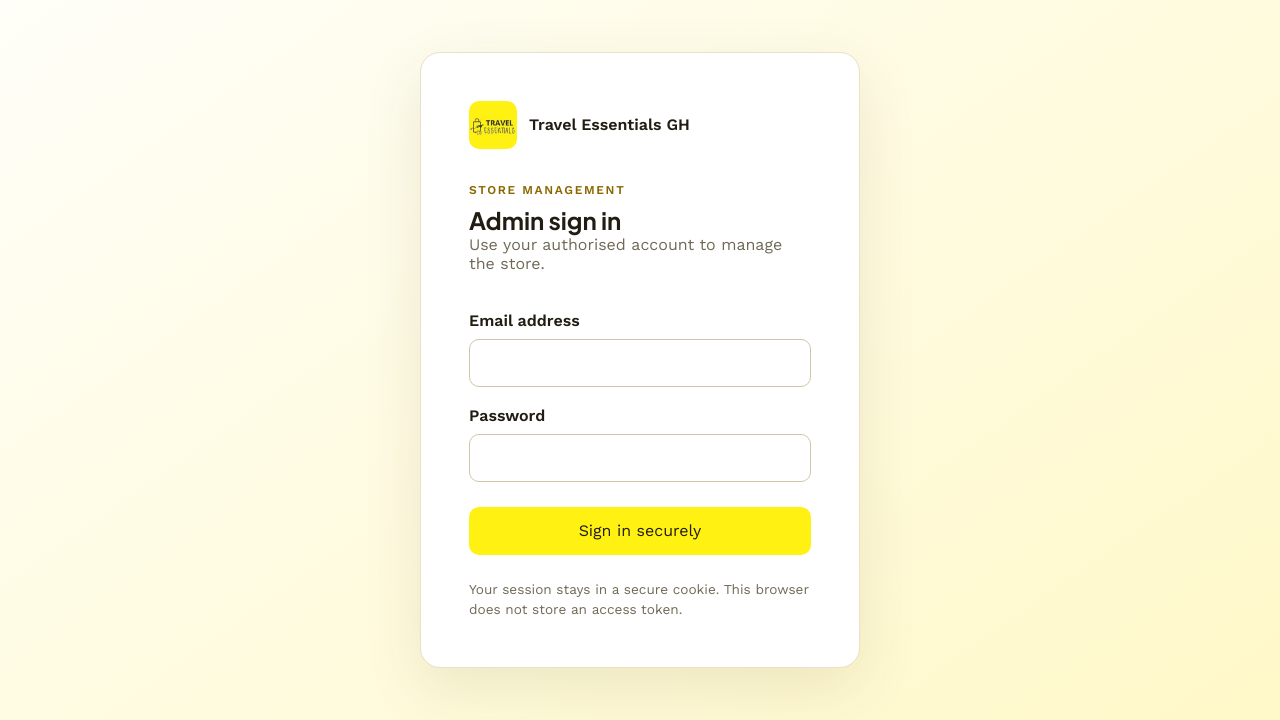
admin authentication and dashboard shell › validates input before sending credentials
Type "not-an-email" into the field labelled "Email address". click: (640,363)
box: [469,339,811,387]
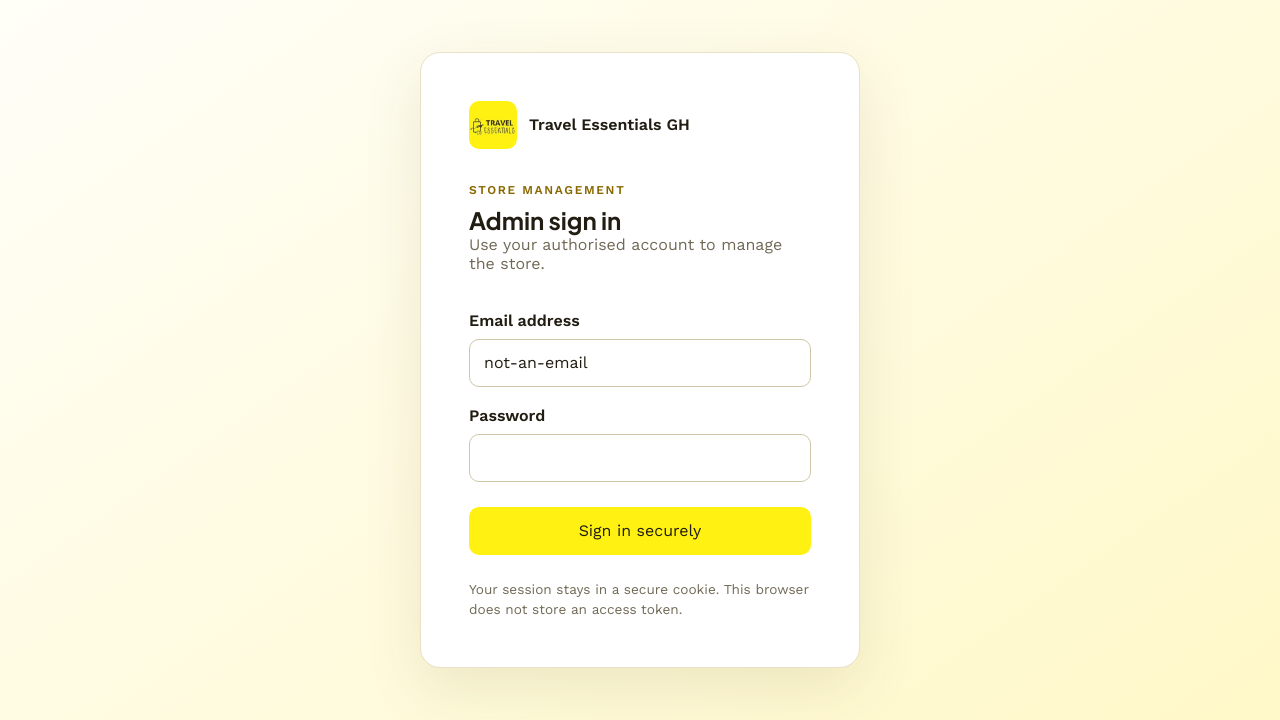
Click the button "Sign in securely". click: (640,531)
box: [469,507,811,555]
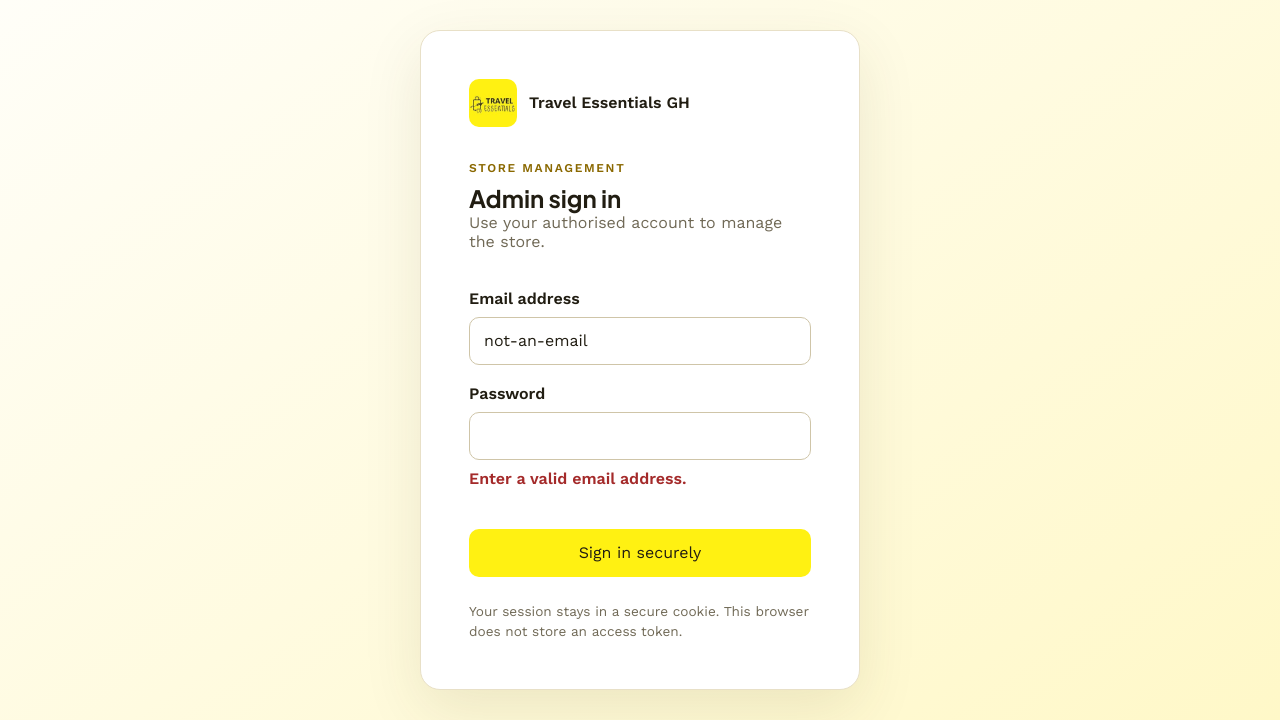
Now the message shows "valid email address", box [469,469,686,488]
